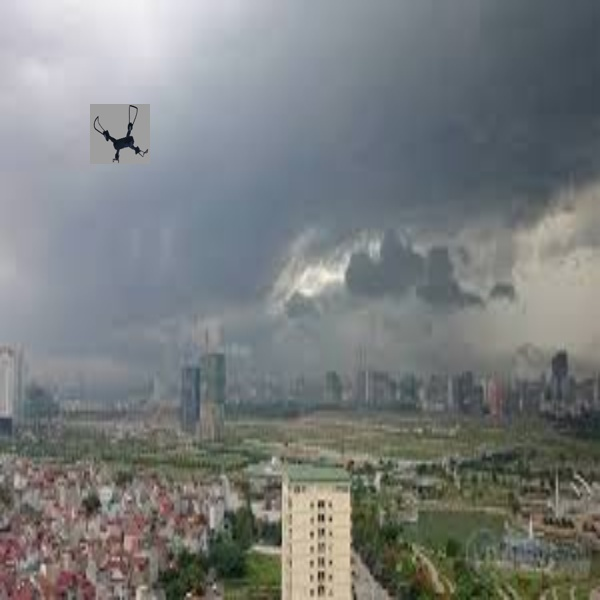drone: (91, 101, 147, 165)
